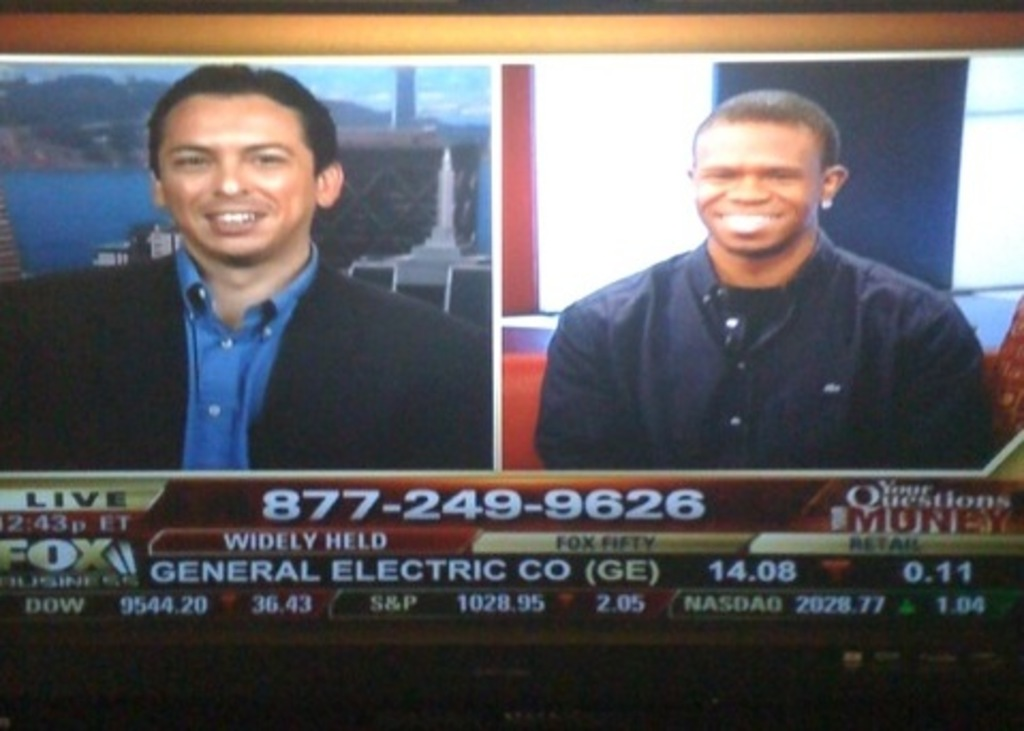person: (1, 62, 498, 475)
